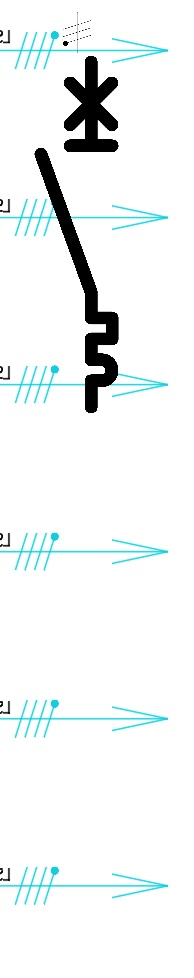interruptor_termomagnetico: (32, 53, 121, 416)
